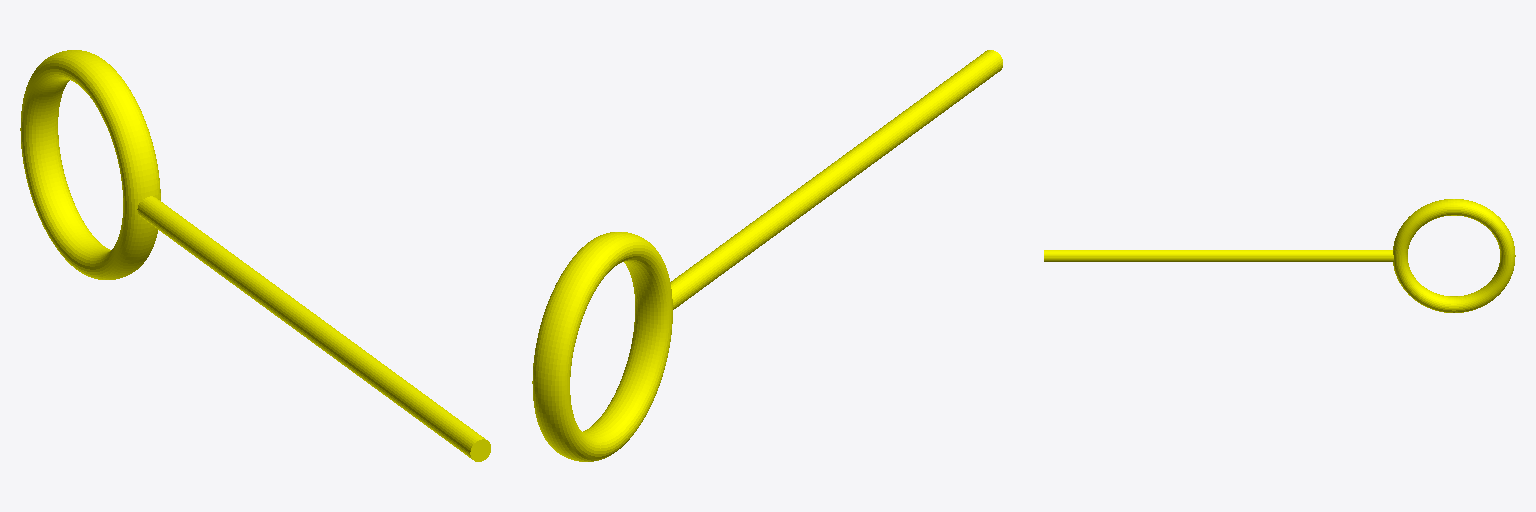
robot.urdf — ring:
<?xml version="0.0" ?>
<robot name="ring">
    <material name="yellow">
        <color rgba="1 1 0 1"/>
    </material>

    <link name="baseLink">
        <!-- from lego/lego.urdf -->
        <contact>
            <lateral_friction value="1.0"/>
            <rolling_friction value="0.0"/>
            <contact_cfm value="0.0"/>
            <contact_erp value="1.0"/>
        </contact>
        <inertial>
            <origin rpy="0 0 0" xyz="0 0 0"/>
            <mass value="0.01"/>
            <inertia ixx="1" ixy="0" ixz="0" iyy="1" iyz="0" izz="1"/>
        </inertial>
        <visual>
            <origin rpy="0 0 0" xyz="0 0 0"/>
            <geometry>
                <!--        radius: 10mm, depth: 14.5mm-->
                <mesh filename="meshes/ring_cyl.obj" scale="1 1 1"/>
                <!--        <box size="0.002 0.002 0.002"/>-->
            </geometry>
            <material name="yellow"/>
        </visual>
        <collision>
            <origin rpy="0 0 0" xyz="0 0 0"/>
            <geometry>
                <mesh filename="meshes/ring_cyl_vhacd.obj" scale="1 1 1"/>
                <!--        <box size="0.002 0.002 0.002"/>-->
            </geometry>
        </collision>
    </link>

    <!-- for testing get linkstate -->
    <link name="waypoint_0">
        <!--    origin-->
        <inertial>
            <origin rpy="0 0 0" xyz="0 0 0"/>
            <mass value=".0"/>
            <inertia ixx="0." ixy="0" ixz="0" iyy="0." iyz="0" izz="0."/>
        </inertial>
    </link>

    <joint name="waypoint_joint_0" type="fixed">
        <parent link="baseLink"/>
        <child link="waypoint_0"/>
        <origin rpy="0 0 0" xyz="0 0 0"/>
    </joint>

    <link name="waypoint_1">
        <!--    middle-->
        <inertial>
            <origin rpy="0 0 0" xyz="0 0 0"/>
            <mass value=".0"/>
            <inertia ixx="0." ixy="0" ixz="0" iyy="0." iyz="0" izz="0."/>
        </inertial>
        <!--    <visual>-->
        <!--      <origin rpy="0 0 0" xyz="0 0 0"/>-->
        <!--      <geometry>-->
        <!--        <box size="0.005 0.005 0.005"/>-->
        <!--      </geometry>-->
        <!--      <material name="grey"/>-->
        <!--    </visual>-->
    </link>

    <joint name="waypoint_joint_1" type="fixed">
        <parent link="baseLink"/>
        <child link="waypoint_1"/>
        <!--    (-R, 0, 0)-->
        <origin rpy="0 0 0" xyz="-0.02 0 0"/>
    </joint>

    <link name="waypoint_2">
        <!--    left-->
        <inertial>
            <origin rpy="0 0 0" xyz="0 0 0"/>
            <mass value=".0"/>
            <inertia ixx="0." ixy="0" ixz="0" iyy="0." iyz="0" izz="0."/>
        </inertial>
    </link>

    <joint name="waypoint_joint_2" type="fixed">
        <parent link="baseLink"/>
        <child link="waypoint_2"/>
        <!--    (-sqrt(2)R/2, -sqrt(2)R/2, 0)-->
        <origin rpy="0 0 0.785398" xyz="-0.0141421 -0.0141421 0"/>
    </joint>

    <link name="waypoint_3">
        <!--    right-->
        <inertial>
            <origin rpy="0 0 0" xyz="0 0 0"/>
            <mass value=".0"/>
            <inertia ixx="0." ixy="0" ixz="0" iyy="0." iyz="0" izz="0."/>
        </inertial>
    </link>

    <joint name="waypoint_joint_3" type="fixed">
        <parent link="baseLink"/>
        <child link="waypoint_3"/>
        <!--    (-sqrt(2)R/2, sqrt(2)R/2, 0)-->
        <origin rpy="0 0 -0.785398" xyz="-0.0141421 0.0141421 0"/>
    </joint>

    <link name="waypoint_4">
        <!--    left 60deg-->
        <inertial>
            <origin rpy="0 0 0" xyz="0 0 0"/>
            <mass value=".0"/>
            <inertia ixx="0." ixy="0" ixz="0" iyy="0." iyz="0" izz="0."/>
        </inertial>
    </link>

    <joint name="waypoint_joint_4" type="fixed">
        <parent link="baseLink"/>
        <child link="waypoint_4"/>
        <!--    -cos(60)*R, -sin(60)*R, 0)-->
        <origin rpy="0 0 1.047197" xyz="-0.0100000 -0.0173205 0"/>
    </joint>

    <link name="waypoint_5">
        <!--    right 60deg-->
        <inertial>
            <origin rpy="0 0 0" xyz="0 0 0"/>
            <mass value=".0"/>
            <inertia ixx="0." ixy="0" ixz="0" iyy="0." iyz="0" izz="0."/>
        </inertial>
    </link>

    <joint name="waypoint_joint_5" type="fixed">
        <parent link="baseLink"/>
        <child link="waypoint_5"/>
        <!--    -cos(60)*R, sin(60)*R, 0)-->
        <origin rpy="0 0 -1.047198" xyz="-0.0100000 0.0173205 0"/>
    </joint> 
</robot>

--- Render facts (derived) ---
Views: 3 orthographic renders of the robot side by side, from view 1: azimuth 30°, elevation 25°; view 2: azimuth 150°, elevation 25°; view 3: azimuth 270°, elevation 25°.
Robot: ring — 7 links, 6 joints (6 fixed); root link baseLink; default pose: all joints at 0.
Visible links, largest first — view 1: baseLink; view 2: baseLink; view 3: baseLink.
Link boxes in pixels (box(x1,y1,x2,y2)): baseLink: box(20, 50, 490, 461); baseLink: box(532, 50, 1002, 461); baseLink: box(1044, 199, 1515, 312).
Bounding box of the posed robot: 0.2261 × 5.12 × 1.34 m (x, y, z).
Meshes: 1 distinct files referenced, 1 mesh visuals loaded (1 OBJ).